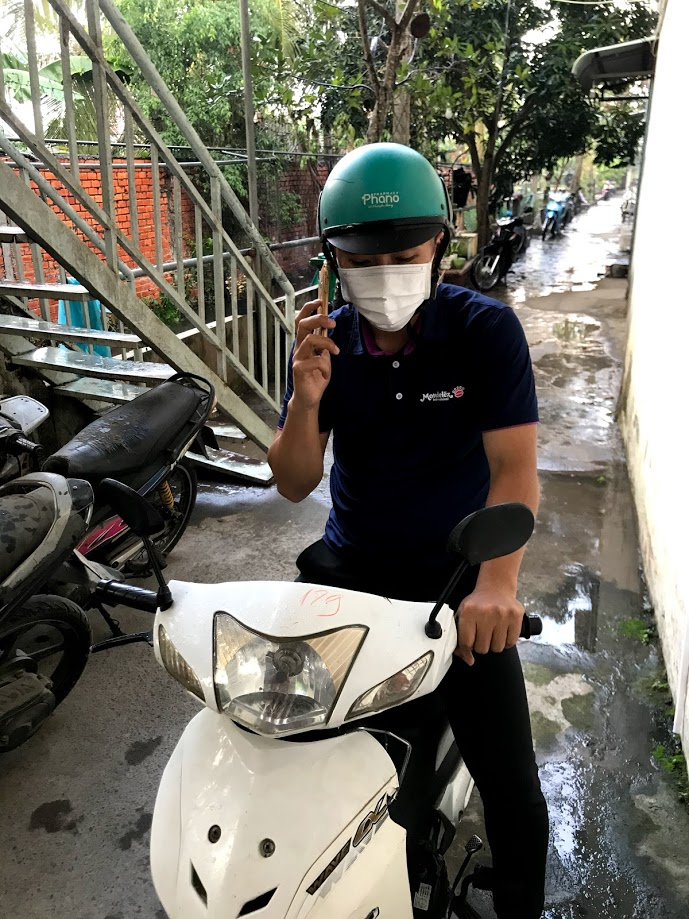dieu khien xe may: (154, 138, 528, 919)
su dung dien thoai: (291, 139, 454, 425)
